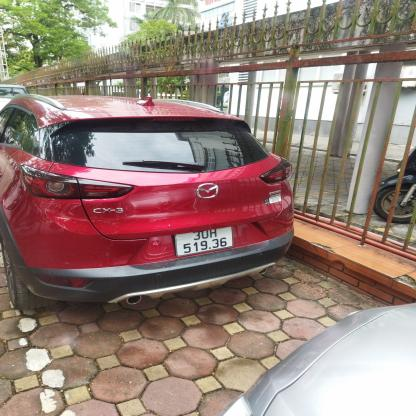biensoxe: (173, 226, 232, 257)
